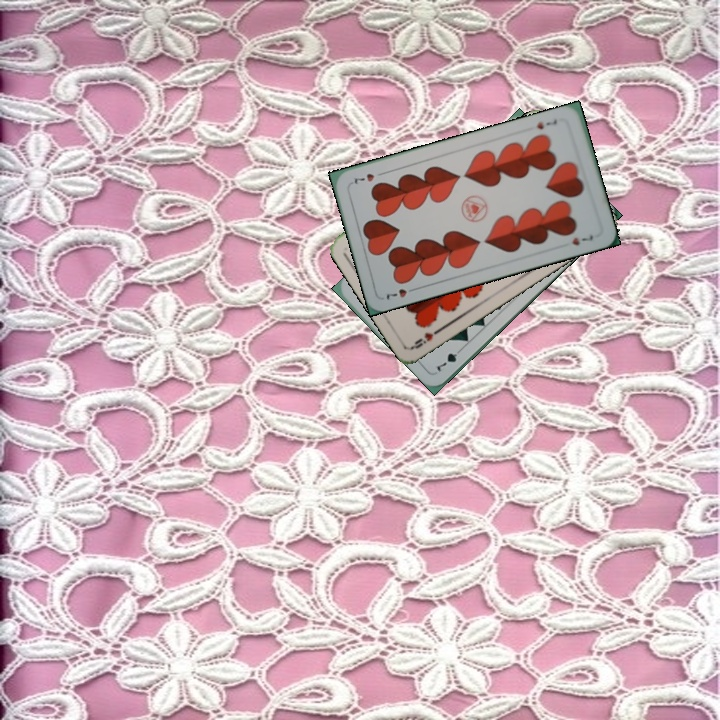G7: (433, 343, 465, 374)
H7: (381, 283, 420, 302), (533, 115, 560, 132)
H9: (408, 324, 445, 352)
